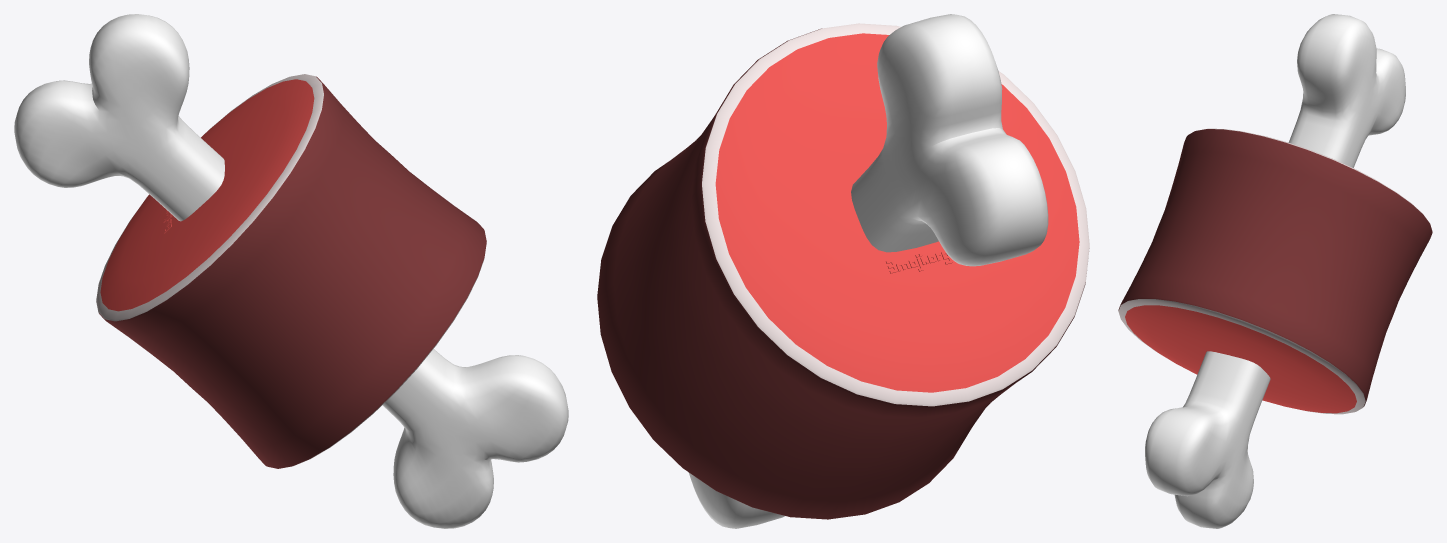
The model's file is meat_on_bone.fbx.
The picture shows the model from 3 angles, left to right: view 1: azimuth 30°, elevation 25°; view 2: azimuth 150°, elevation 25°; view 3: azimuth 270°, elevation 25°; orthographic projection. The views are drawn at different scales.
Visible parts, largest first — view 1: Circle.2205; view 2: Circle.2205; view 3: Circle.2205.
Part boxes in pixels (left/top/right/bottom): Circle.2205: left=14, top=14, right=568, bottom=528; Circle.2205: left=597, top=14, right=1089, bottom=528; Circle.2205: left=1118, top=14, right=1432, bottom=528.
Bounding box in the file's own units: 211 × 236 × 163.
Materials: 1 (1 with a texture image).
